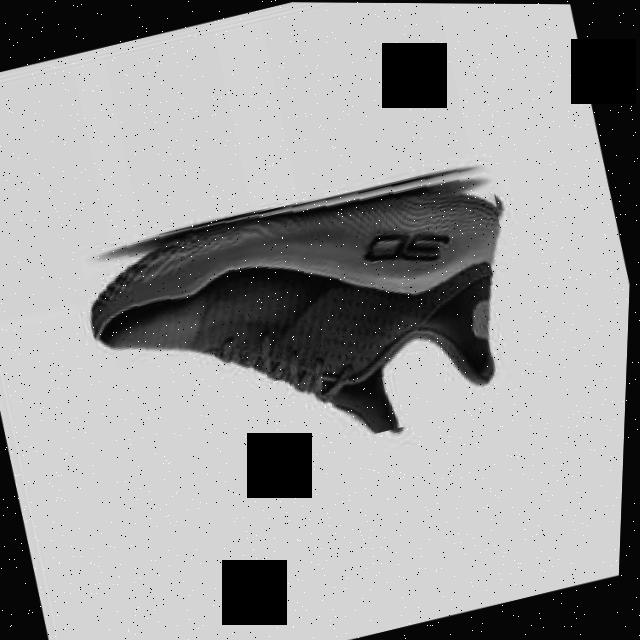shoe: (70, 150, 548, 495)
